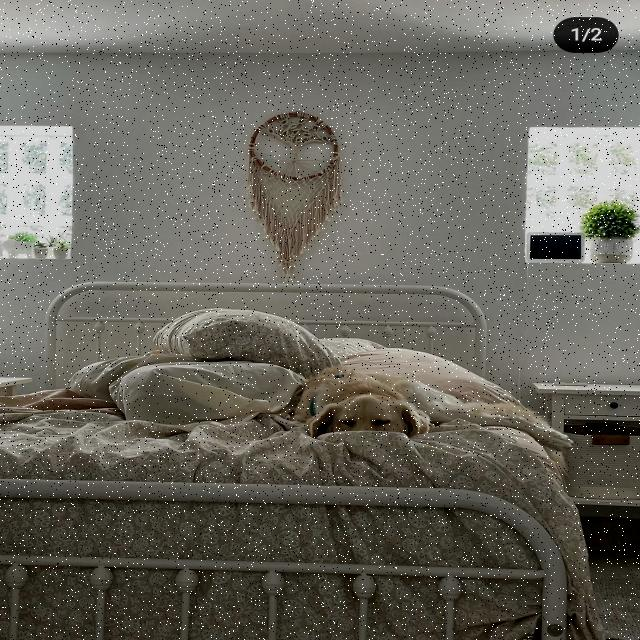bed: (0, 316, 530, 609)
